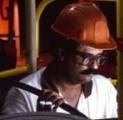hard-hat: (49, 0, 118, 51)
